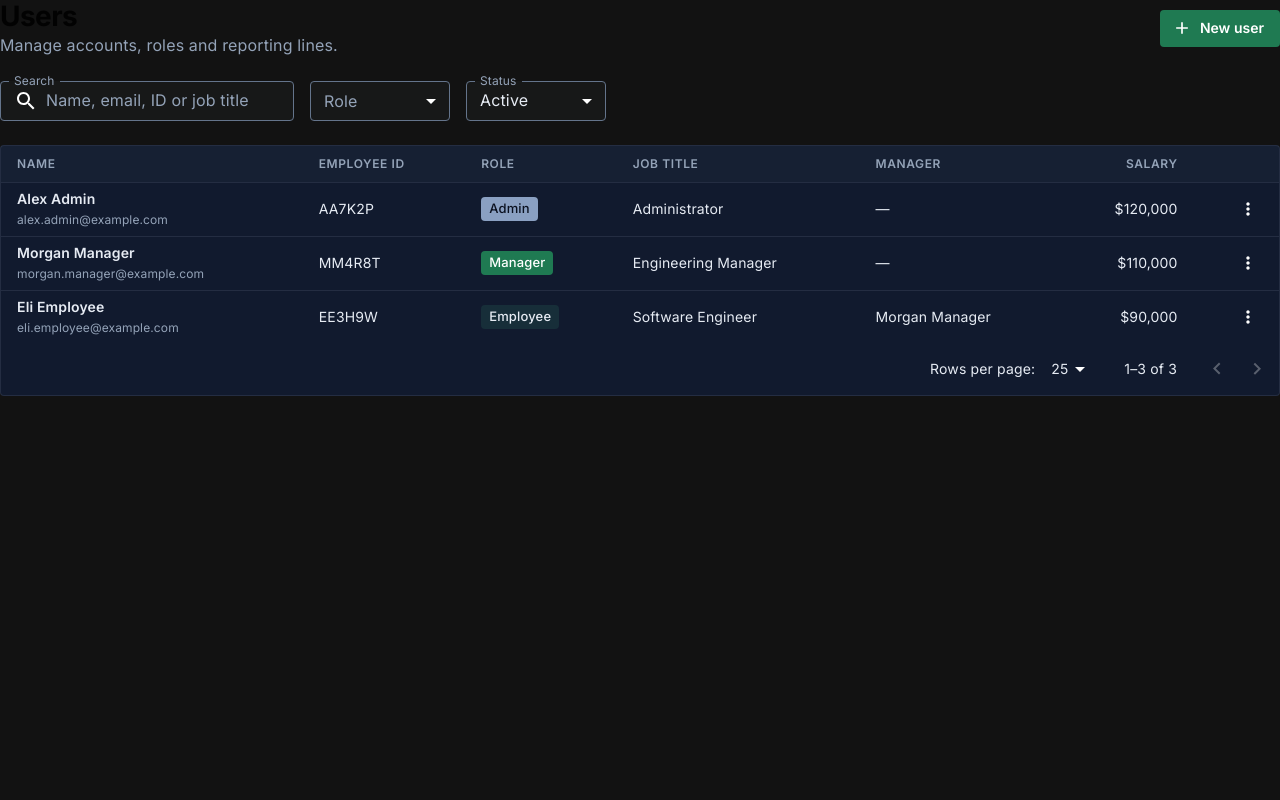
Test: UsersPage › shows the API error when an action is refused
This screenshot has width=1280, height=800.
Click the button named "Actions for Morgan Manager": coordinates (1248, 263) top-left (1233, 248), bottom-right (1263, 278)
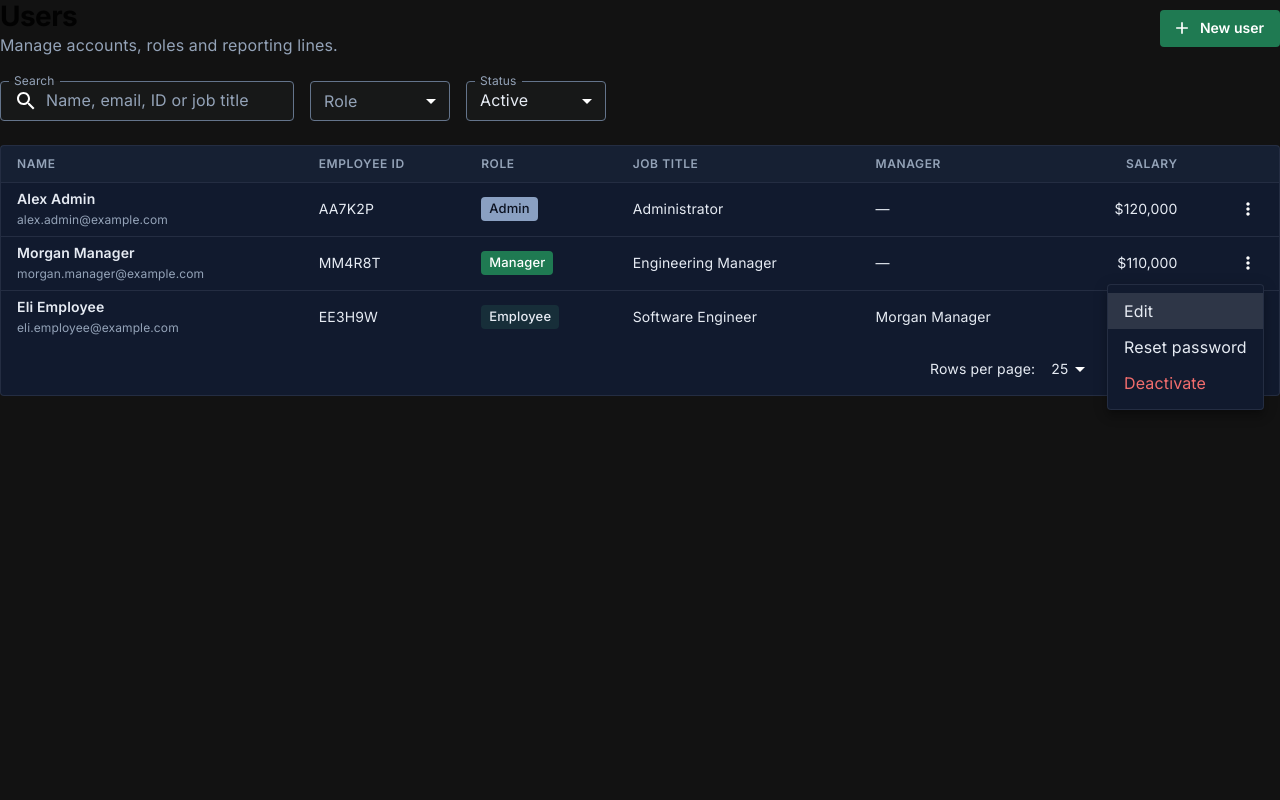
Click the menu item "Deactivate": coordinates (1165, 383) top-left (1124, 373), bottom-right (1206, 393)
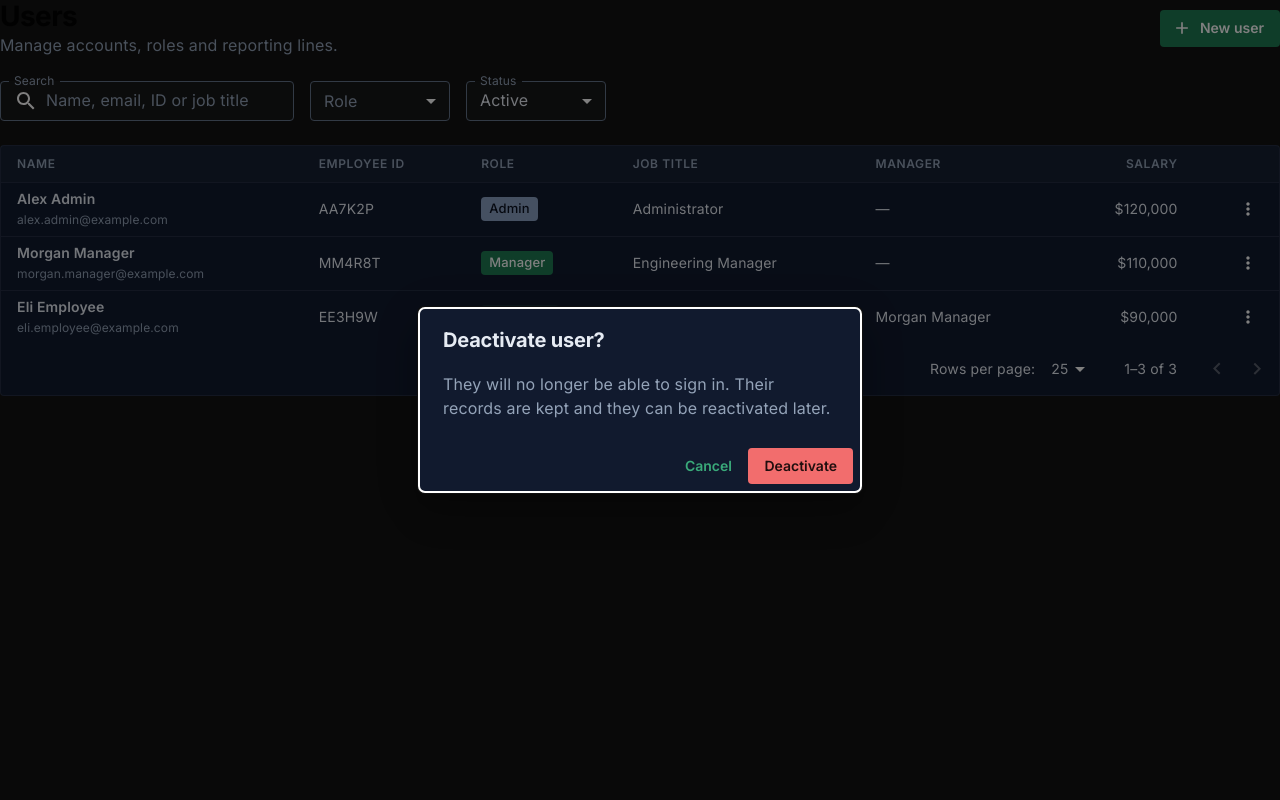
Click the button "Deactivate": coordinates (801, 466) top-left (748, 448), bottom-right (853, 484)
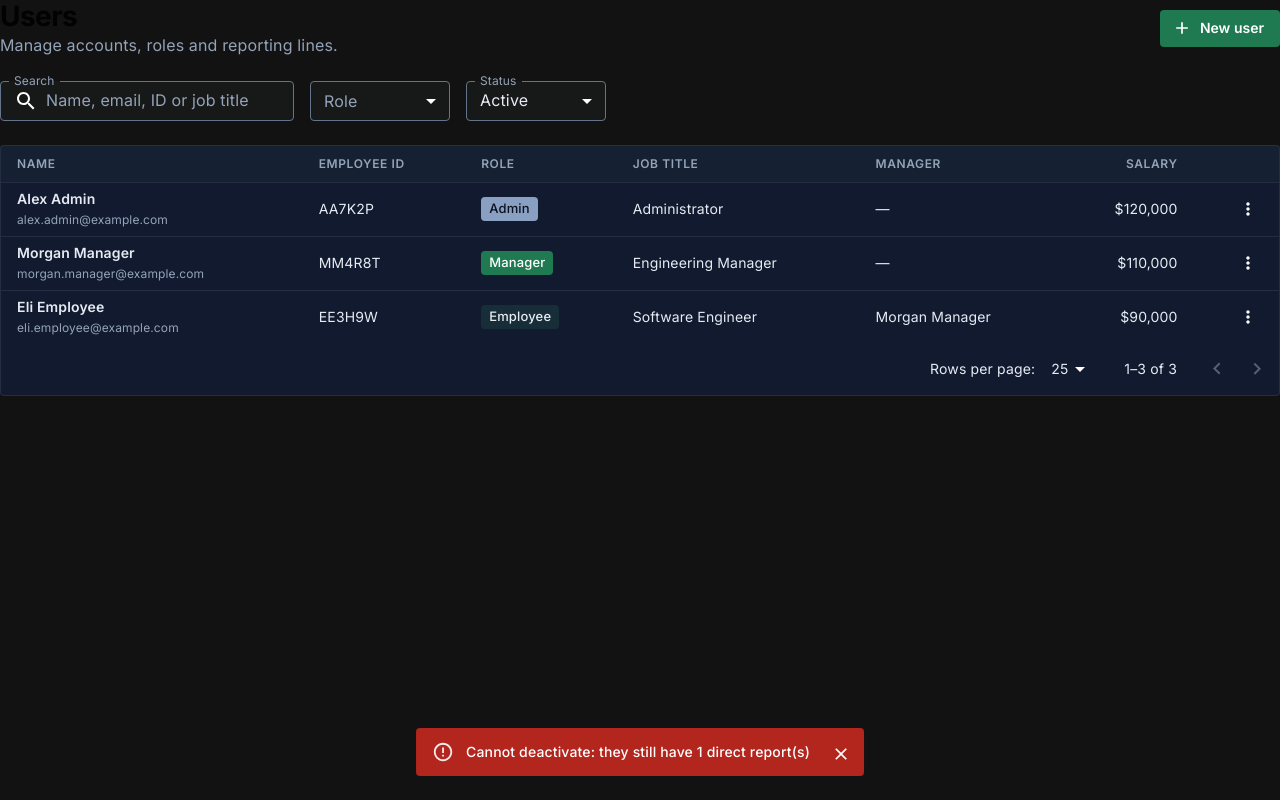
Expected: the text "Cannot deactivate: they still have 1 direct report(s)" is shown, top-left (466, 743), bottom-right (810, 760)
